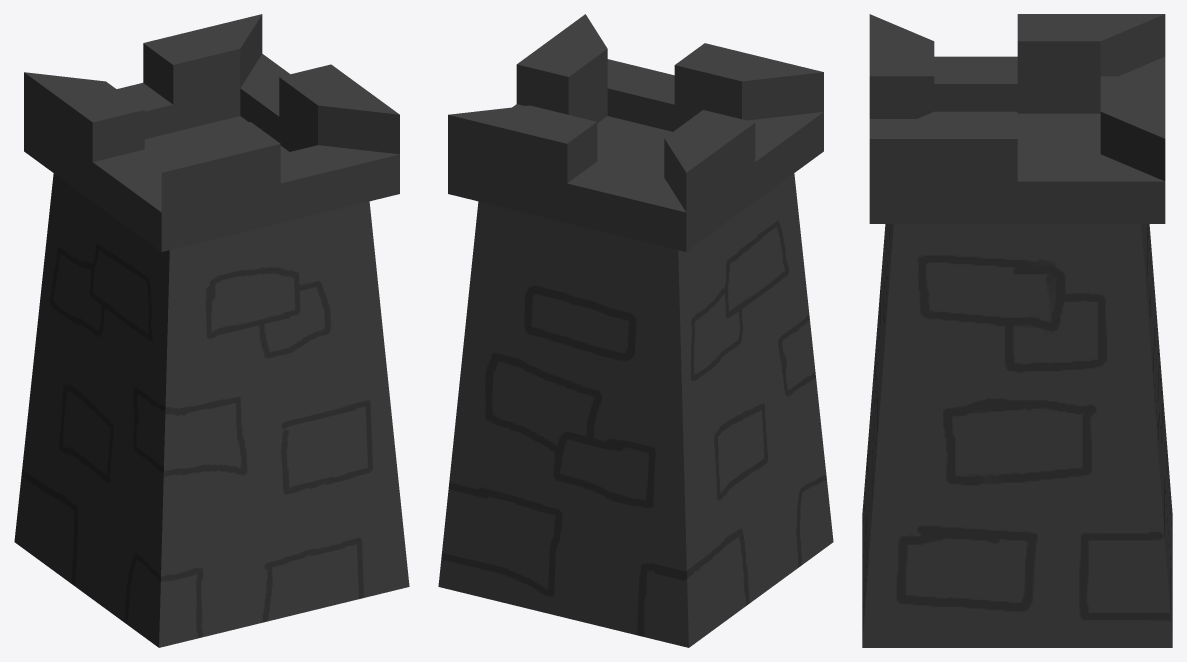
The model's file is kale_kule_revize.fbx.
The picture shows the model from 3 angles, left to right: view 1: azimuth 30°, elevation 25°; view 2: azimuth 150°, elevation 25°; view 3: azimuth 270°, elevation 25°; orthographic projection. The views are drawn at different scales.
Parts seen in each view (by area): view 1: kule; view 2: kule; view 3: kule.
Boxes of the visible parts, bbox=[...] form: kule: bbox=[14, 14, 409, 647]; kule: bbox=[438, 14, 833, 647]; kule: bbox=[862, 14, 1172, 647].
Bounding box in the file's own units: 7.73 × 13.88 × 7.73.
Materials: 1 (1 with a texture image).
